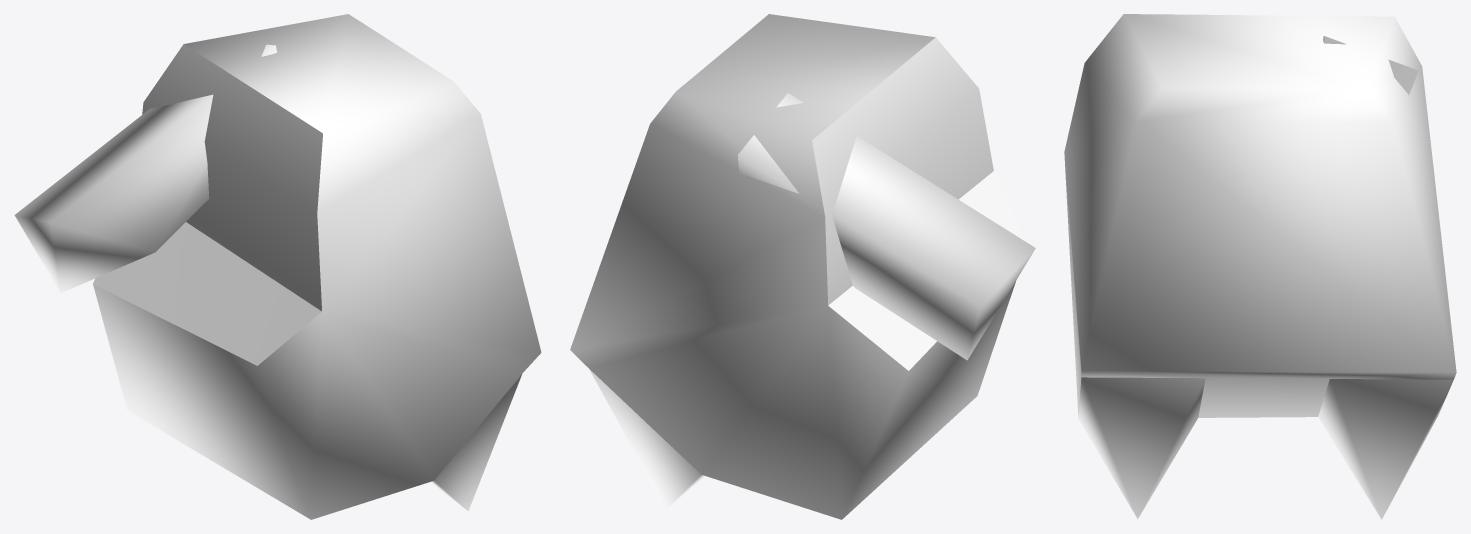
The model's file is HandRight.obj.
3 views of the same model, side by side, from view 1: azimuth 30°, elevation 25°; view 2: azimuth 150°, elevation 25°; view 3: azimuth 270°, elevation 25° (orthographic). The views are drawn at different scales.
Size of the model in its own units: 7.9 by 8.13 by 6.63.
1 material, 1 textured.
